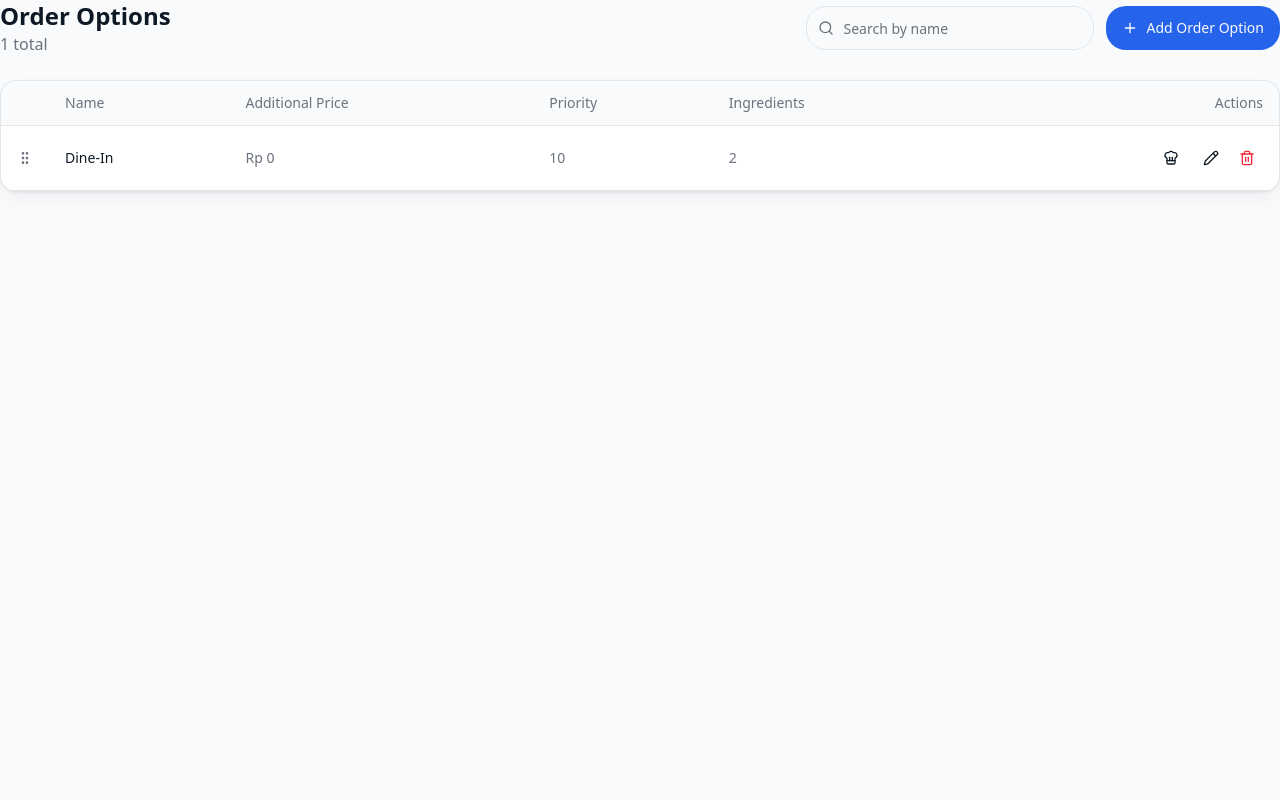
AdminOrderOptionsPage › creates an order option from the dialog
Expected: the text "Dine-In" is shown, [49,126,230,190]
Click the button "Add Order Option" at [1193, 28], box [1106,6,1279,50]
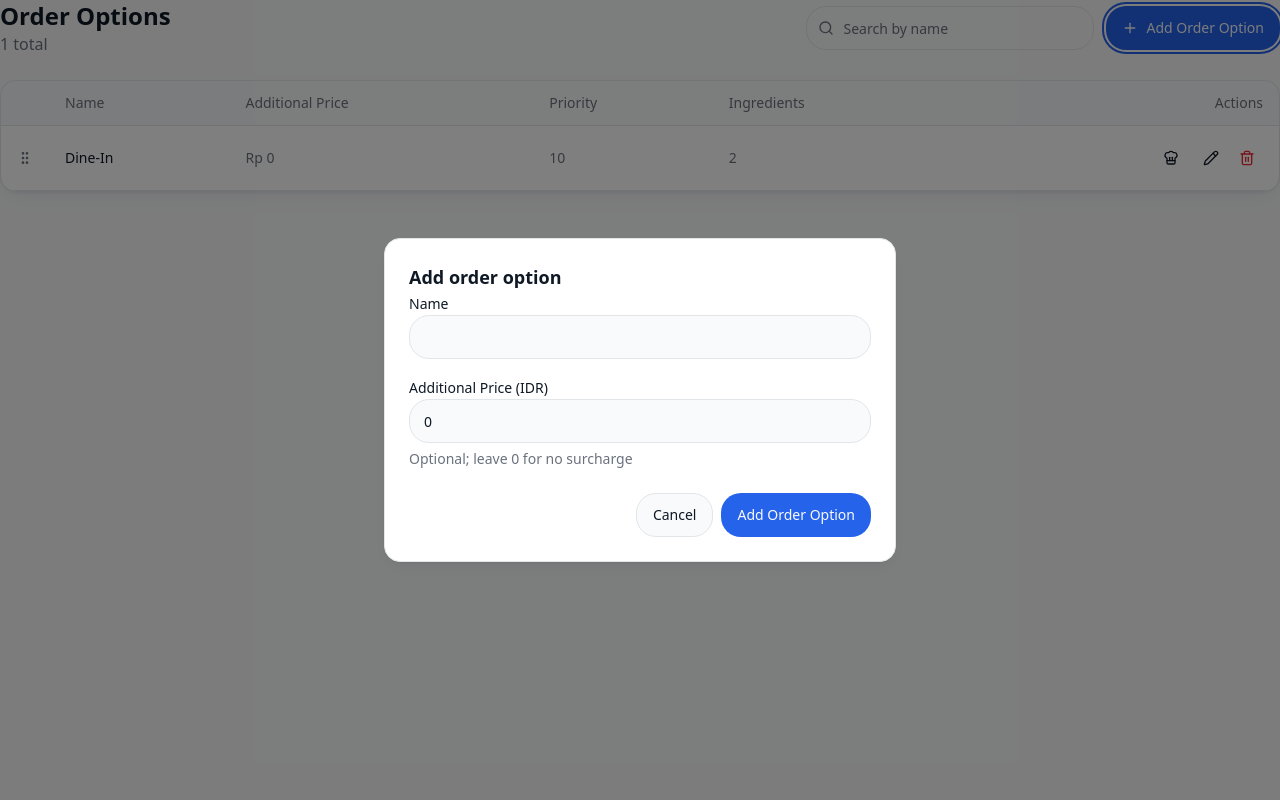
Type "Take Away" into the field labelled "Name" at [640, 337], box [409,315,871,359]
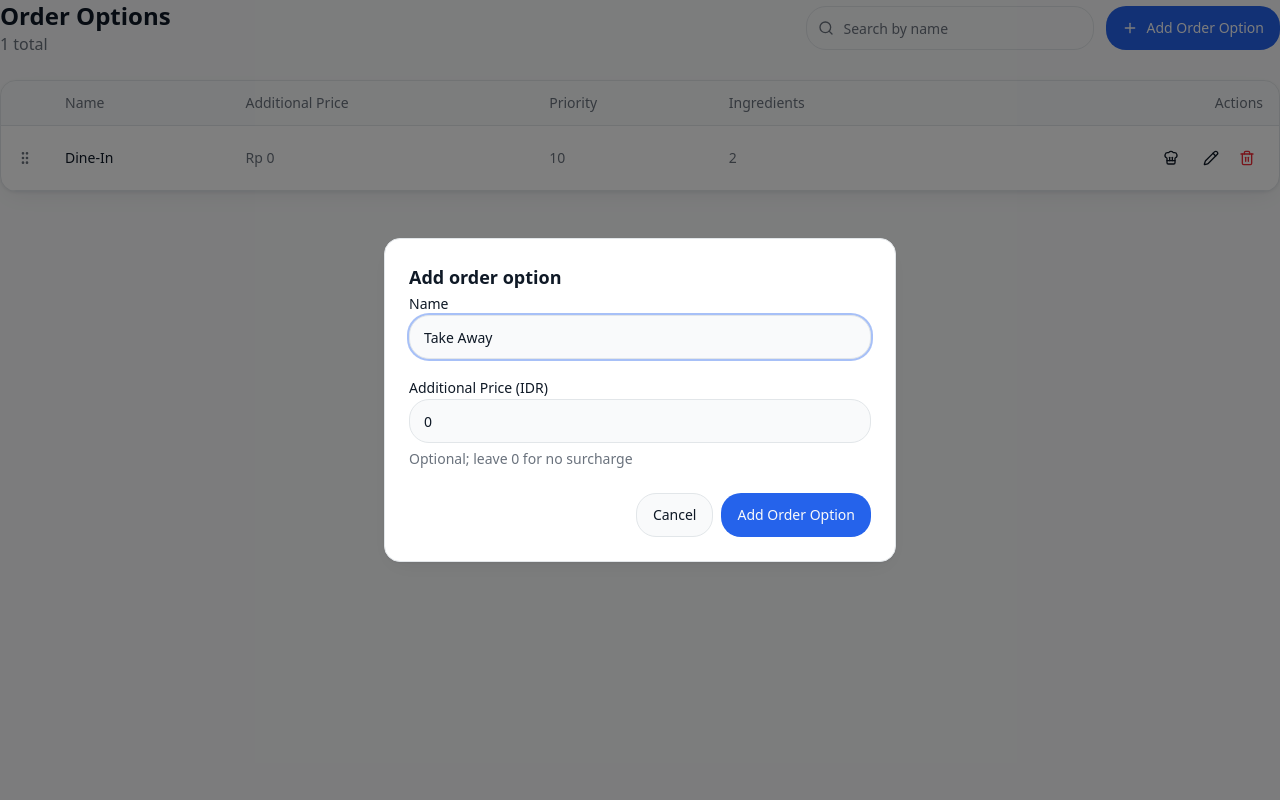
Click the button "Add Order Option" at [796, 515], box [722,493,871,537]
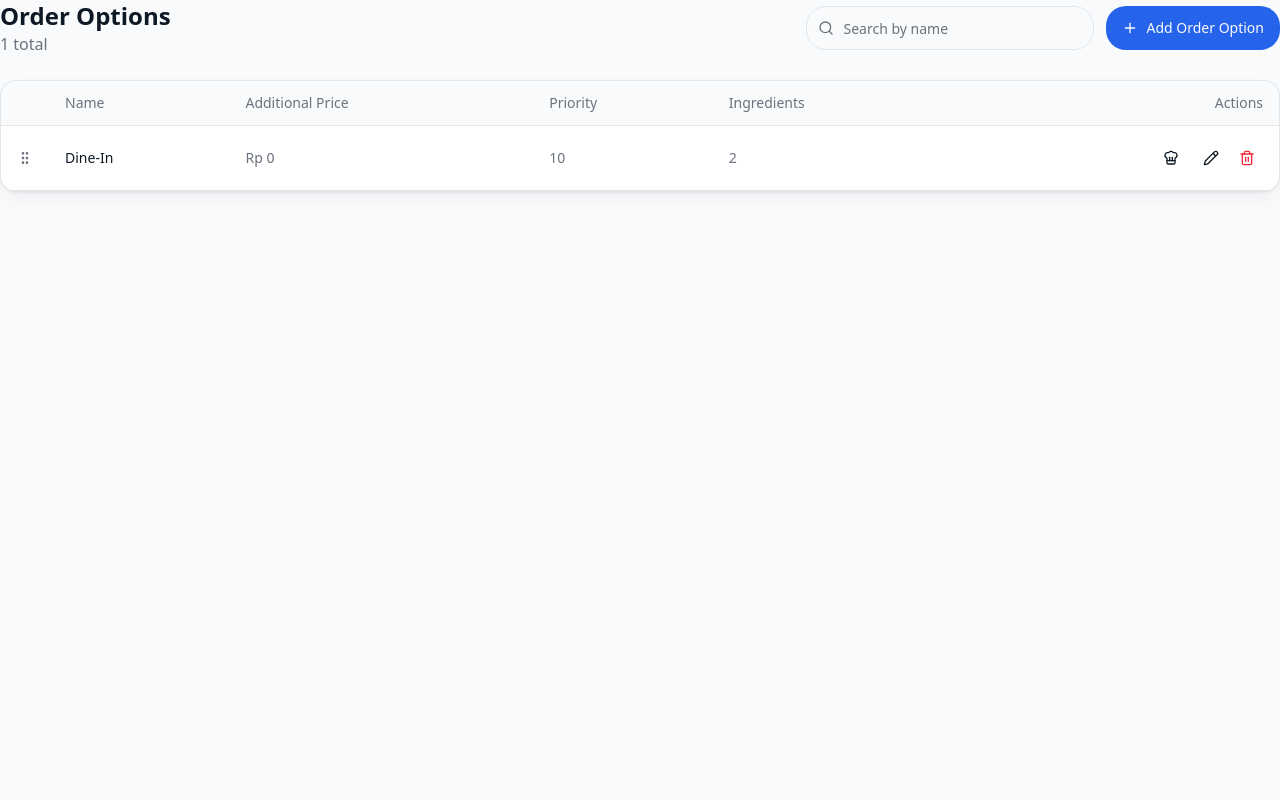
Expected: the dialog is gone
